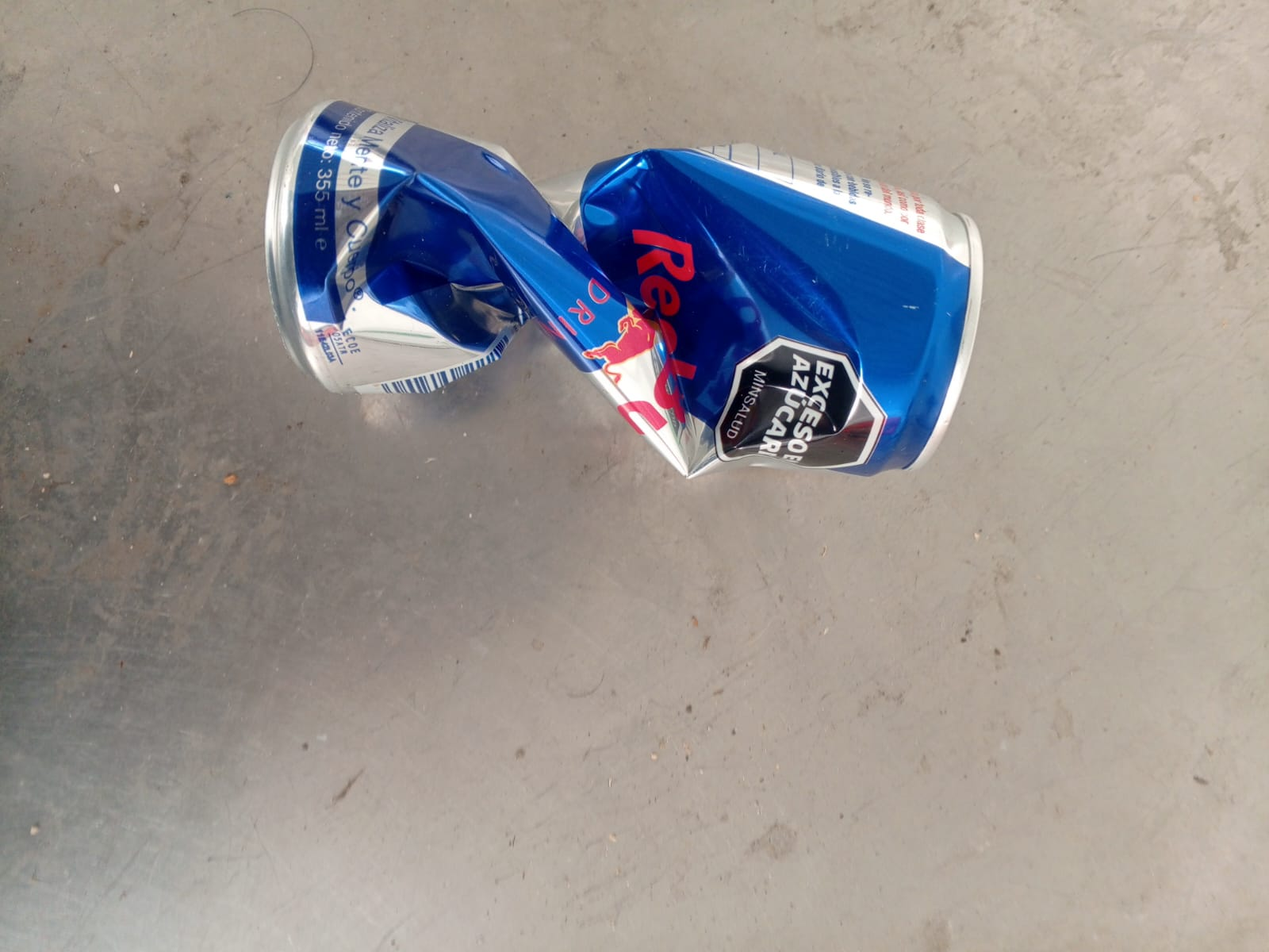Metal: (261, 98, 985, 482)
